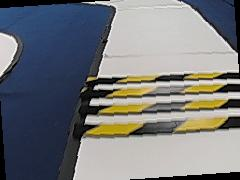bump: (85, 66, 237, 141)
